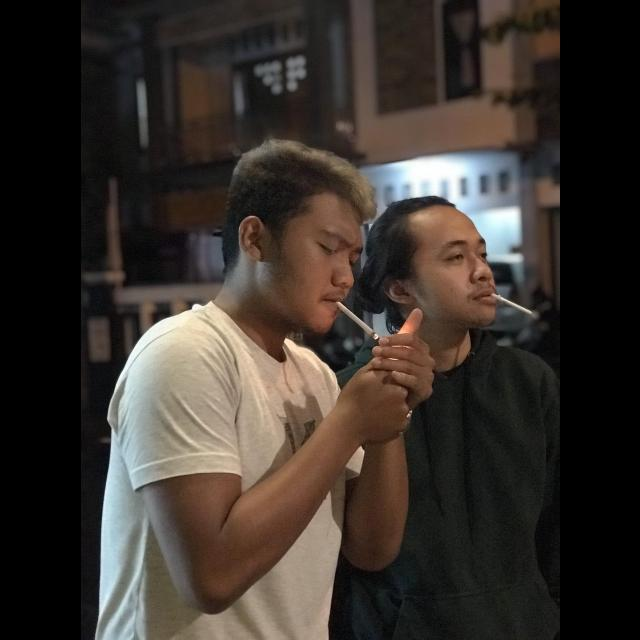rokok: (331, 297, 382, 345), (478, 288, 536, 320)
